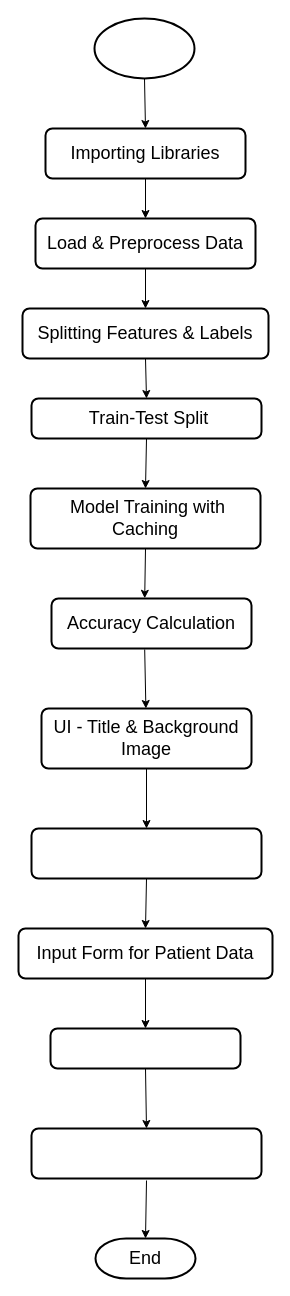
The diagram is 290 pixels wide and 1296 high, and some of its shapes have lost their labels. The centre of each missing label's shape, as x and y in pixels:
Feature Descriptions: [146,853]
Make Prediction: [145,1048]
Show Model Accuracy: [146,1153]
Start: [144,48]
